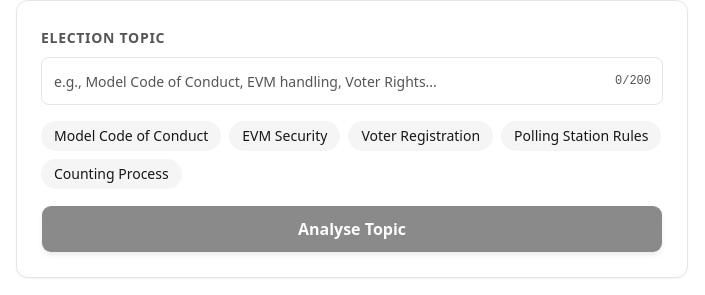
Test: StructuredInput Component › submit button is enabled when topic length is >= 3
The image size is (705, 295).
Type "vot" into the field with placeholder "e.g., Model Code of Conduct, EVM handling, Voter Rights..." at (352, 81), box [41,57,663,105]
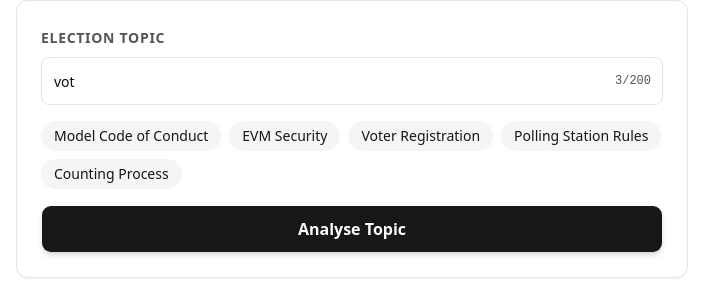
Expected: the button "Analyse Topic" is enabled, [41,205,663,253]
